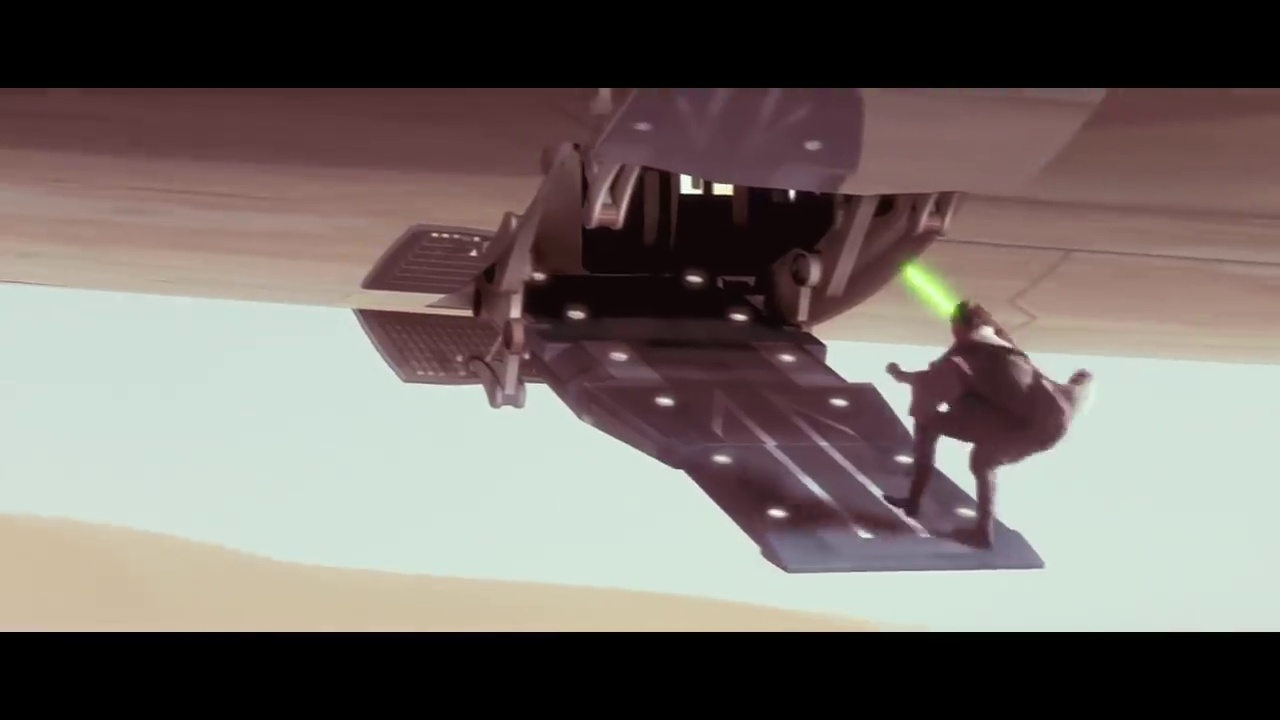lightsaber: (897, 263, 970, 326)
